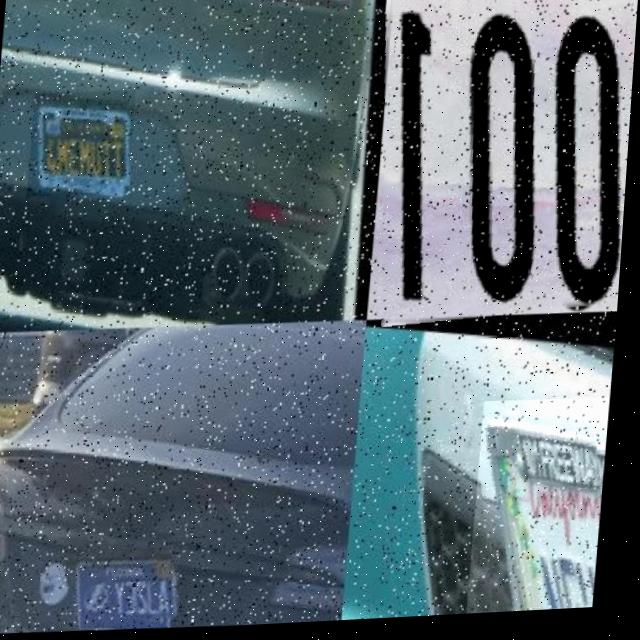LicensePlate: (367, 0, 640, 331), (474, 401, 616, 619), (29, 89, 137, 198), (79, 552, 183, 630)
